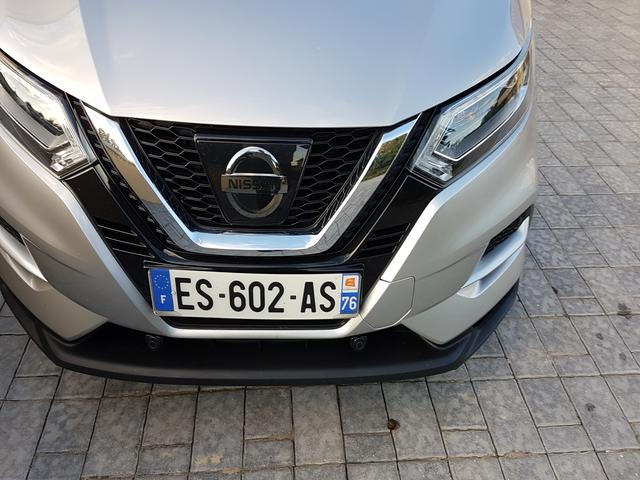Quashquai: (141, 241, 387, 346)
